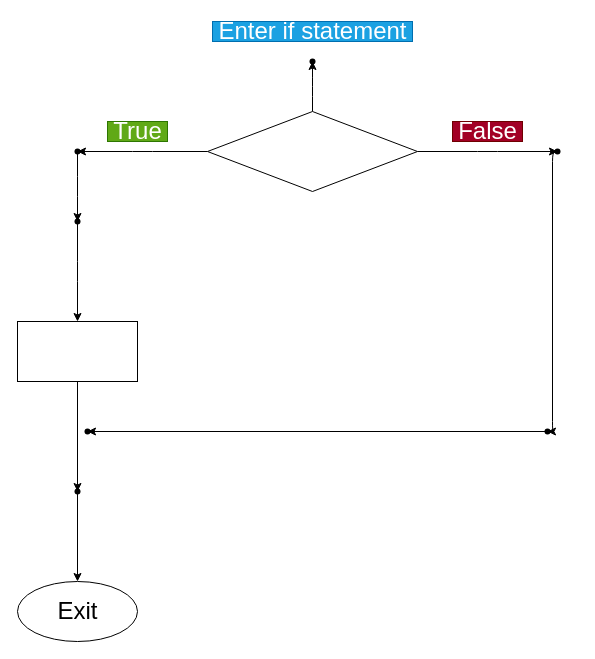
Image size: 595x659. Some labels were removed from this diagram. Each missing label, with the box of its shape:
check condition: (206, 110, 418, 192)
run condition commands: (16, 320, 138, 382)
